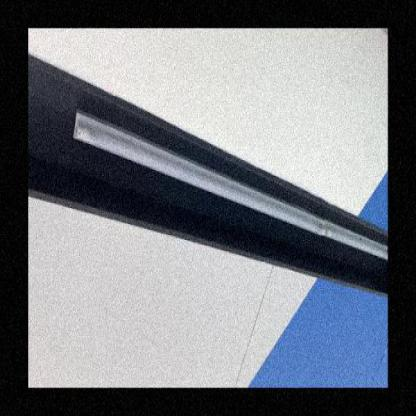light_off: (68, 86, 388, 306)
